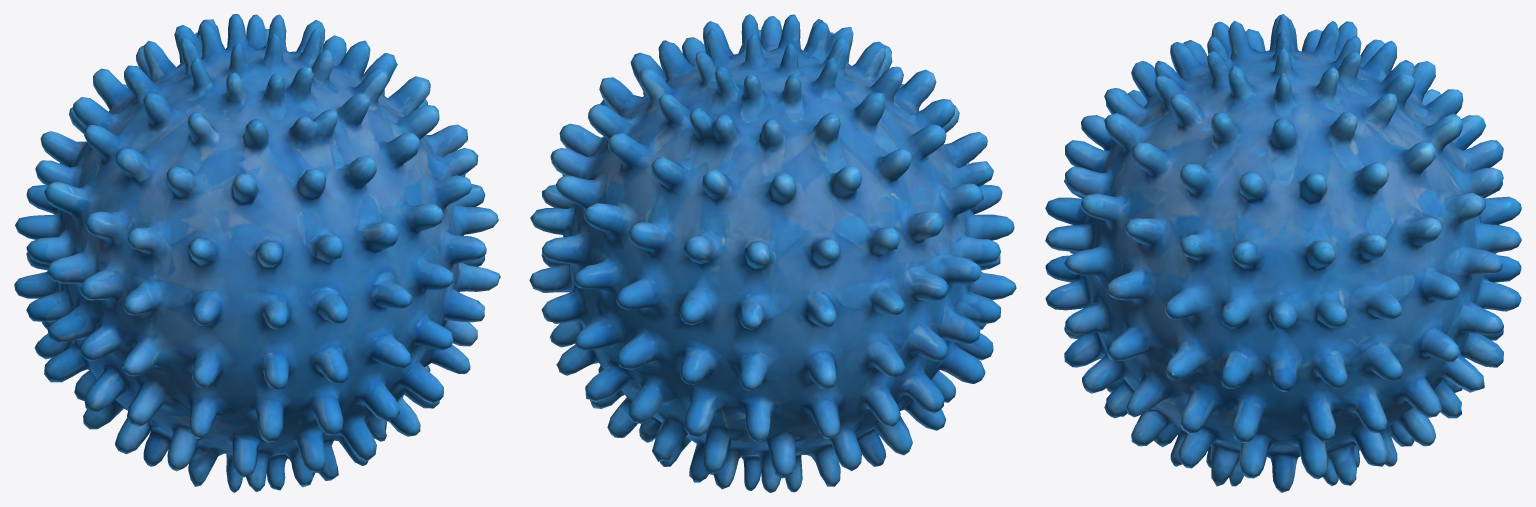
The model's file is Spiky_Blue_Ball_0124214524_texture.fbx.
3 renders of one model, left to right at view 1: azimuth 30°, elevation 25°; view 2: azimuth 150°, elevation 25°; view 3: azimuth 270°, elevation 25°, orthographic.
Parts seen in each view (by area): view 1: Mesh1_Mesh1.007; view 2: Mesh1_Mesh1.007; view 3: Mesh1_Mesh1.007.
Boxes of the visible parts, bbox=[...] form: Mesh1_Mesh1.007: bbox=[14, 14, 500, 492]; Mesh1_Mesh1.007: bbox=[529, 14, 1016, 492]; Mesh1_Mesh1.007: bbox=[1045, 14, 1521, 492].
Bounding box in the file's own units: 197 × 194 × 195.
1 material, 1 textured.
